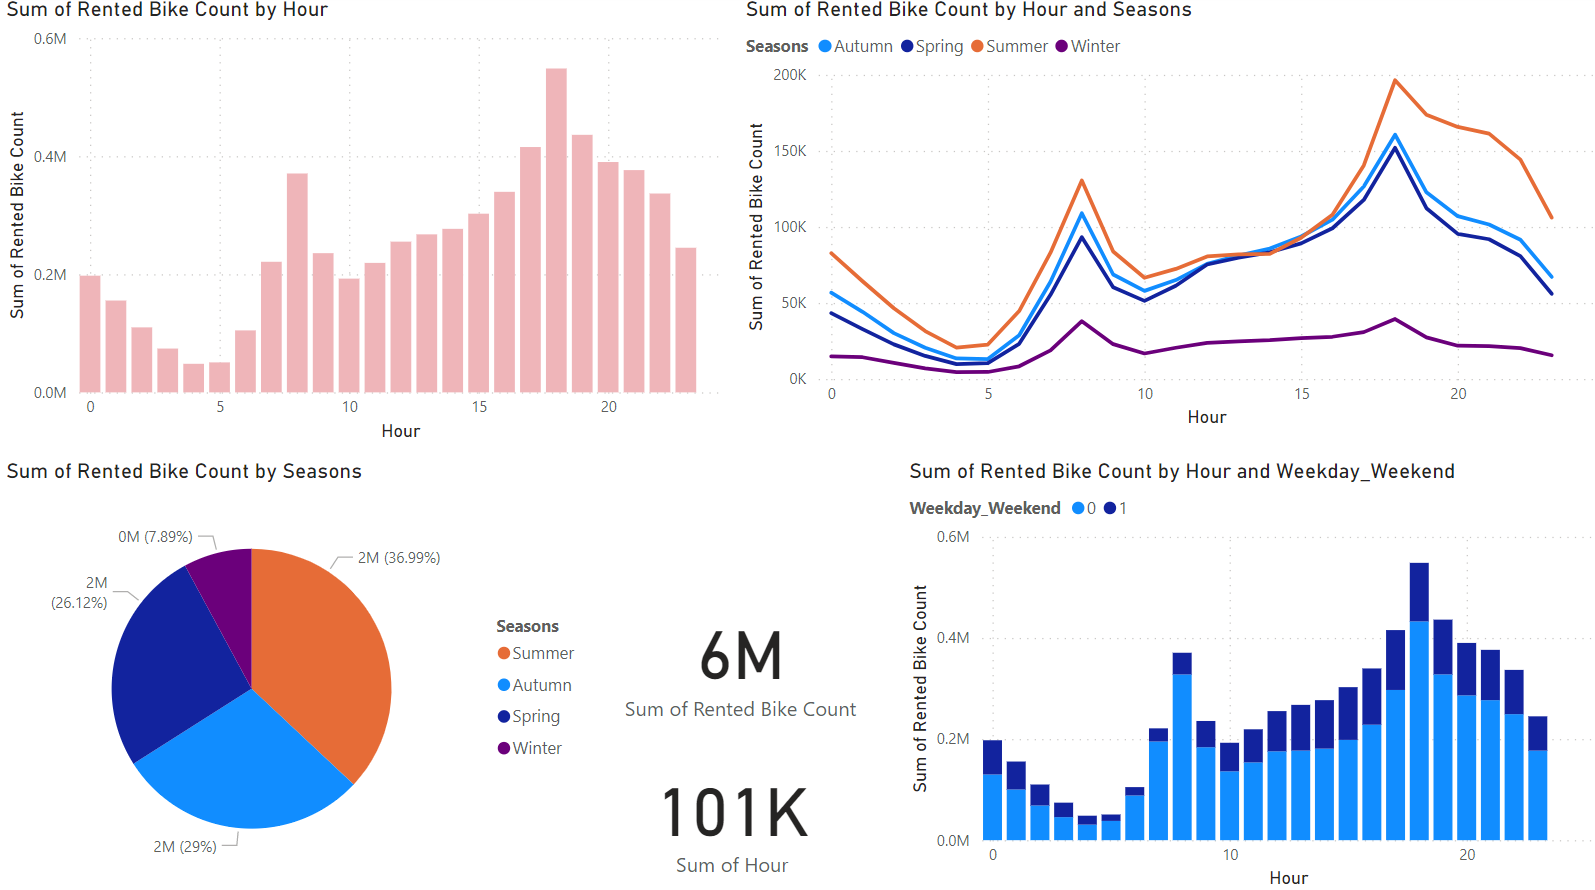

What the dashboard file says about the page in this screenshot:
{"tool":"powerbi","page":{"name":"Page 2","canvas":[1280,720],"ordinal":1},"visuals":[{"type":"columnChart","fields":{"Category":["SeoulBikeData.Hour"],"Y":["Sum(SeoulBikeData.Rented Bike Count)"],"Series":["SeoulBikeData.Weekday_Weekend"]},"box":[721.5,371.9,558.5,348.1],"z":2000},{"type":"card","fields":{"Values":["Sum(SeoulBikeData.Rented Bike Count)"]},"box":[459,457.8,264.9,149.8],"z":3000},{"type":"actionButton","box":[0,0,100,40],"z":4000},{"type":"pieChart","fields":{"Category":["SeoulBikeData.Seasons"],"Y":["Sum(SeoulBikeData.Rented Bike Count)"]},"box":[0,371.5,473.4,348.8],"z":4001},{"type":"card","fields":{"Values":["Sum(SeoulBikeData.Hour)"]},"box":[465,595.7,239.7,124.6],"z":4002},{"type":"lineChart","fields":{"Category":["SeoulBikeData.Hour"],"Y":["Sum(SeoulBikeData.Rented Bike Count)"],"Series":["SeoulBikeData.Seasons"]},"box":[590.9,2.4,689.1,348.8],"z":4003},{"type":"columnChart","fields":{"Category":["SeoulBikeData.Hour"],"Y":["Sum(SeoulBikeData.Rented Bike Count)"]},"box":[0,2.4,582.5,359.6],"z":4004}]}

Visuals, with their boxes in screenshot pixels (x1, y1, x2, y2), scaled from the page's 1280x720 canvas onto the 1595x890 screenshot:
columnChart - SeoulBikeData.Hour x Sum(SeoulBikeData.Rented Bike Count): rect(899, 460, 1594, 889)
card - Sum(SeoulBikeData.Rented Bike Count): rect(572, 566, 902, 751)
actionButton: rect(0, 0, 125, 49)
pieChart - SeoulBikeData.Seasons x Sum(SeoulBikeData.Rented Bike Count): rect(0, 459, 590, 889)
card - Sum(SeoulBikeData.Hour): rect(579, 736, 878, 889)
lineChart - SeoulBikeData.Hour x Sum(SeoulBikeData.Rented Bike Count): rect(736, 3, 1594, 434)
columnChart - SeoulBikeData.Hour x Sum(SeoulBikeData.Rented Bike Count): rect(0, 3, 726, 447)
